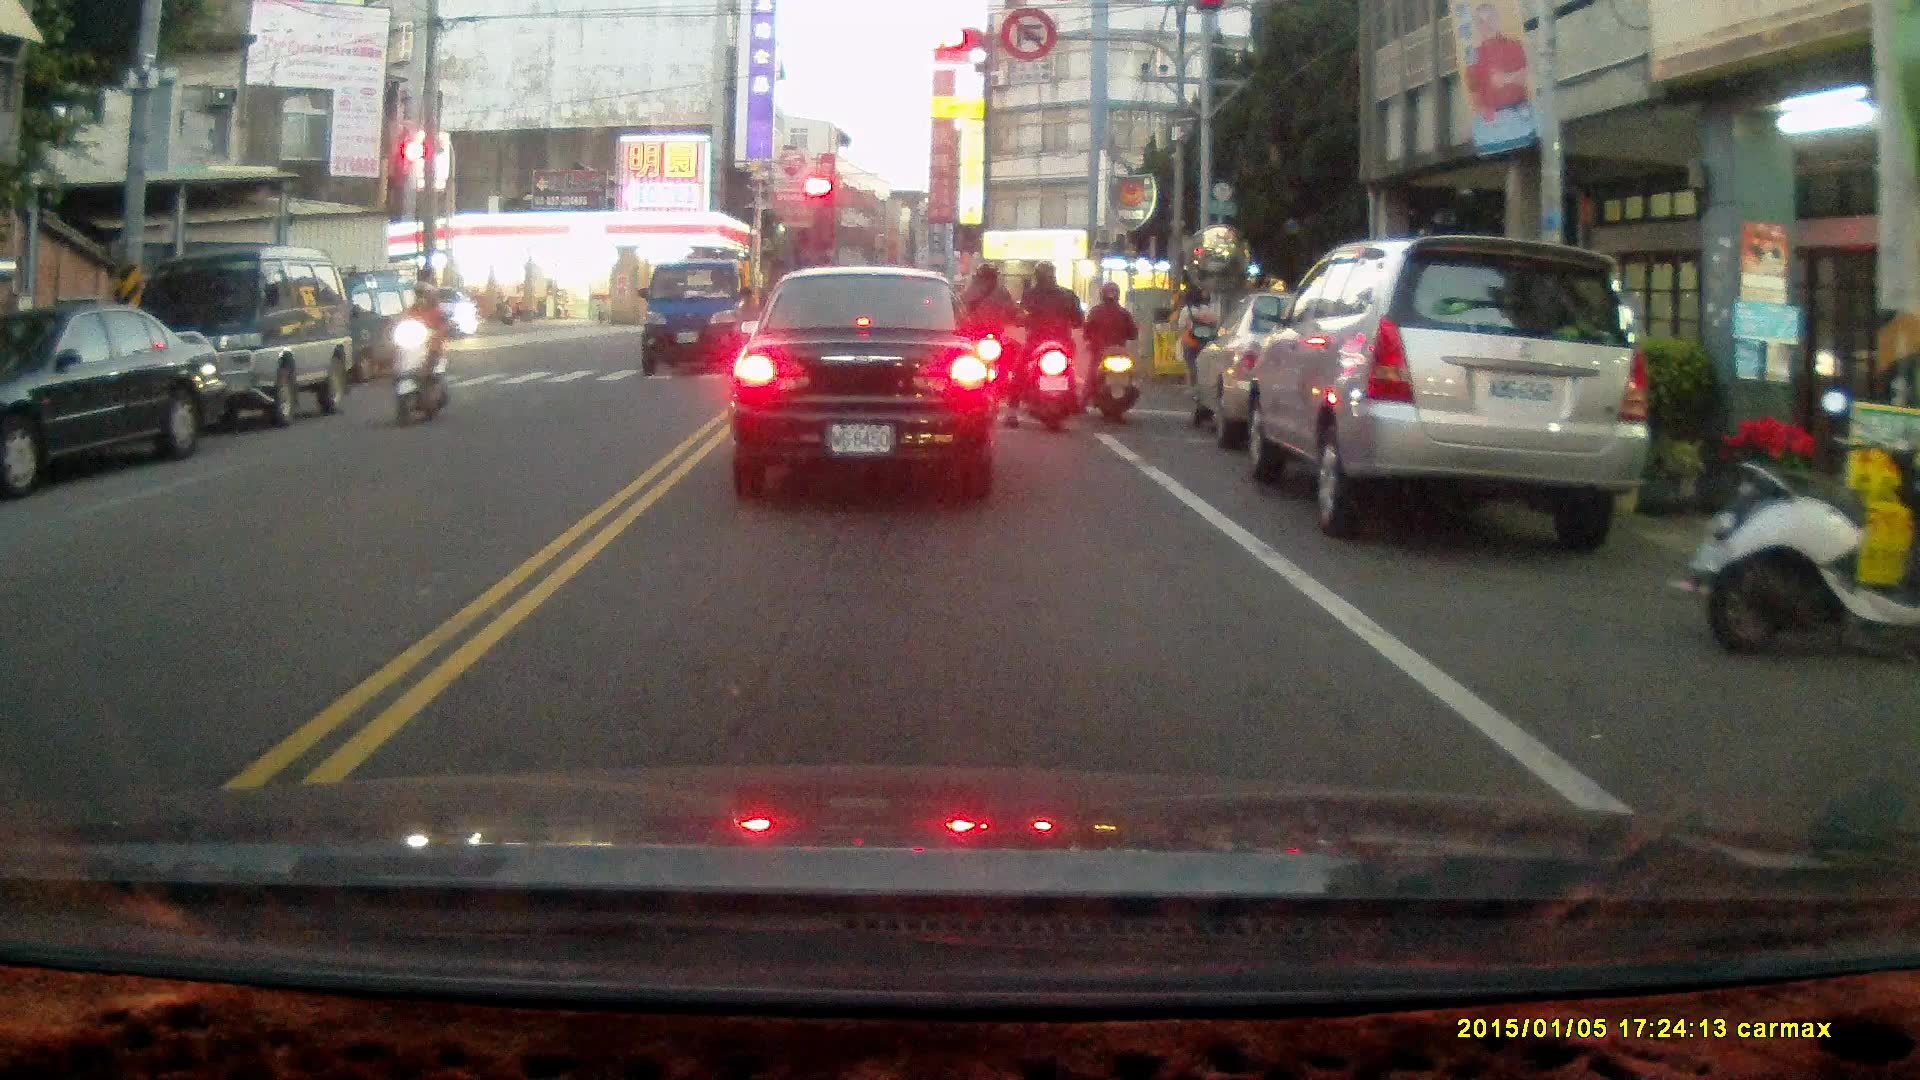pedestrian: (1173, 285, 1221, 406)
rider: (999, 257, 1083, 434), (389, 279, 451, 426), (1078, 279, 1140, 425), (955, 266, 1014, 415)
vehicle: (1237, 235, 1648, 545), (733, 266, 1005, 498), (6, 304, 230, 501), (131, 245, 357, 426), (1191, 292, 1425, 455), (314, 271, 442, 388), (639, 265, 761, 379)
